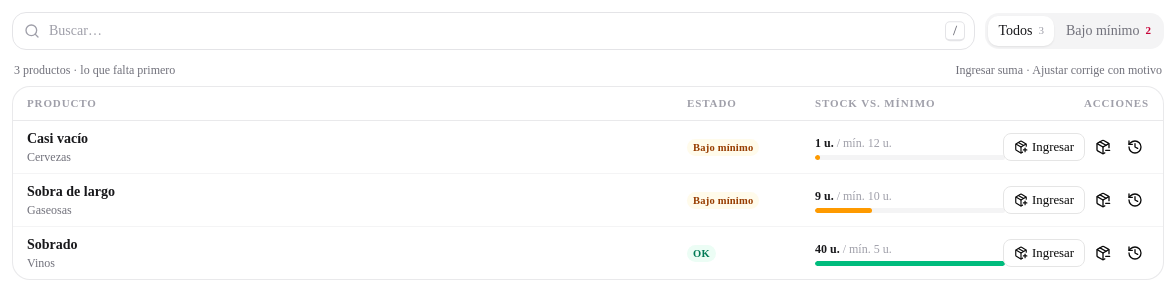
it: StockList (spec 205 · D12) › la búsqueda filtra por nombre
Type "vacío" into the search field with placeholder "Buscar…" at [494, 31], box top-left (12, 12), bottom-right (976, 50)
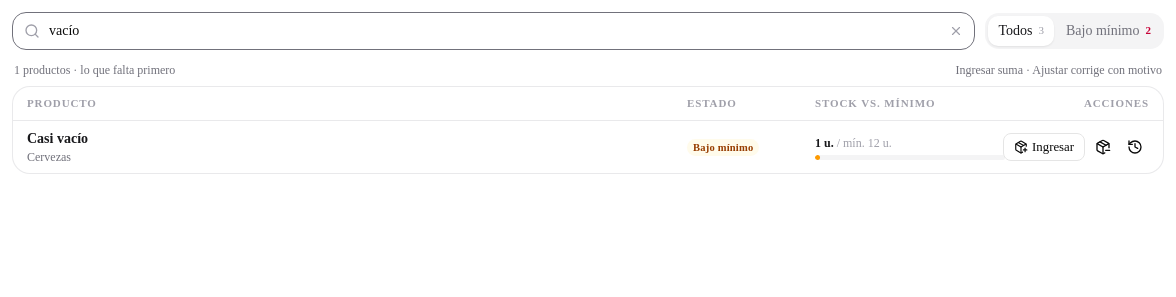
Check: the text "Casi vacío" is shown, box top-left (27, 131), bottom-right (88, 146)
Check: the text "Sobrado" is gone
